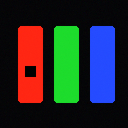1 square: (25, 66, 35, 76)
